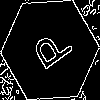P: (25, 25, 75, 77)
